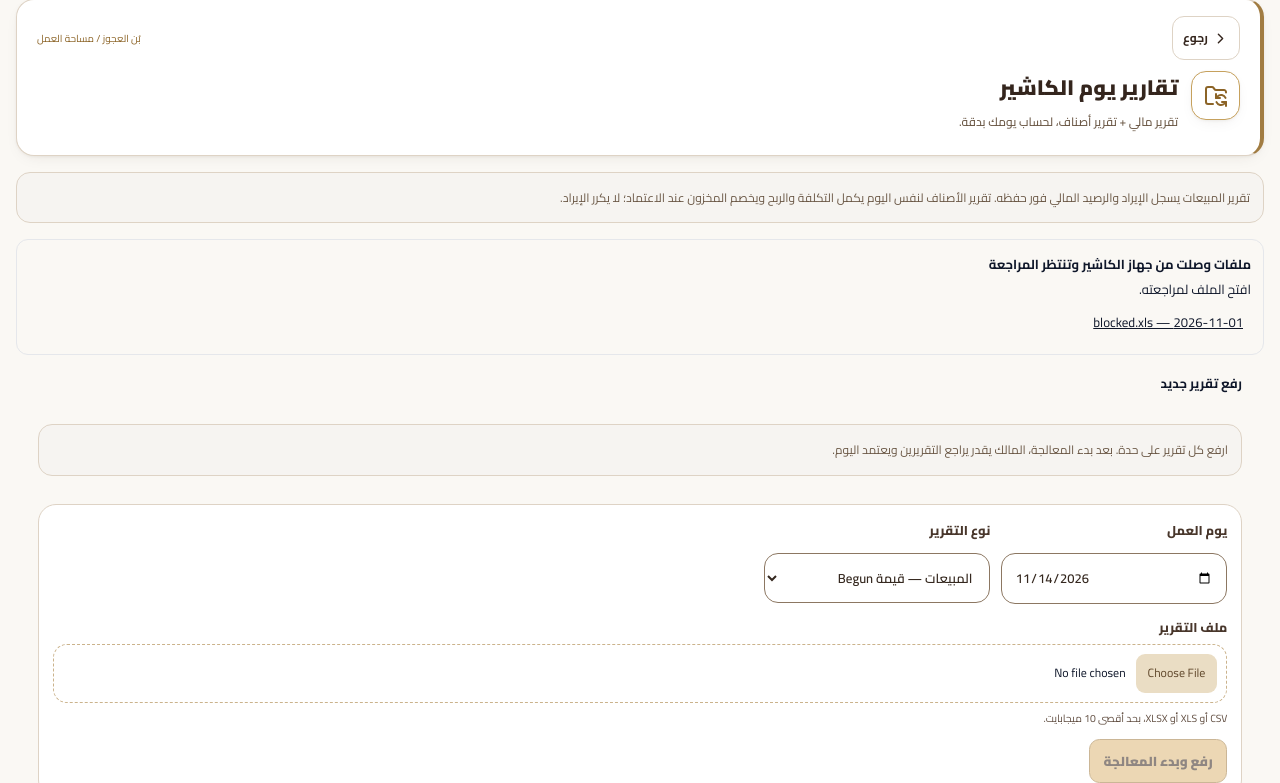
Test: keeps unresolved variant and seasoning rows visible and prevents approval
This screenshot has width=1280, height=783.
Click the button "2026-11-01 — blocked.xls" at (1168, 322), box [1085,302,1251,342]
(page scrolled)
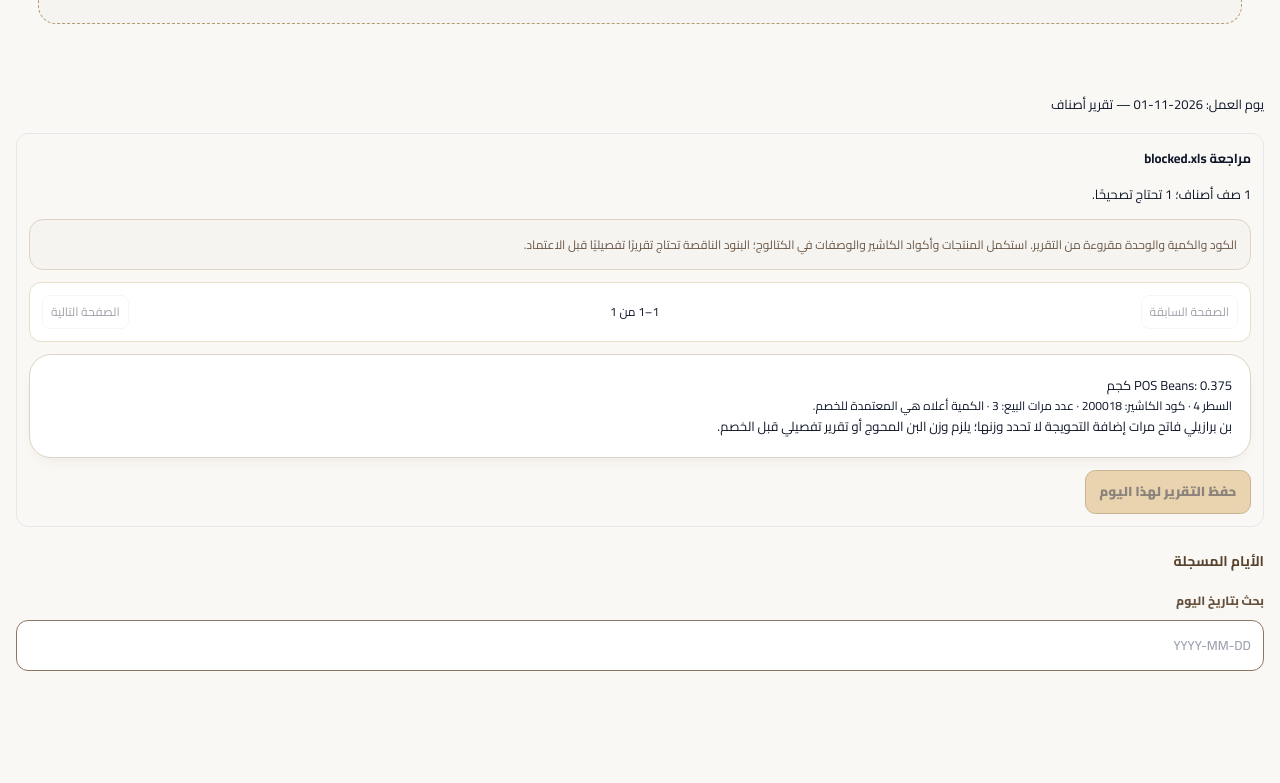
Now the text "مرات إضافة التحويجة لا تحدد وزنها" is shown, box [717,414,1155,438]
Now the button "حفظ التقرير لهذا اليوم" is disabled, box [1085,470,1251,514]
